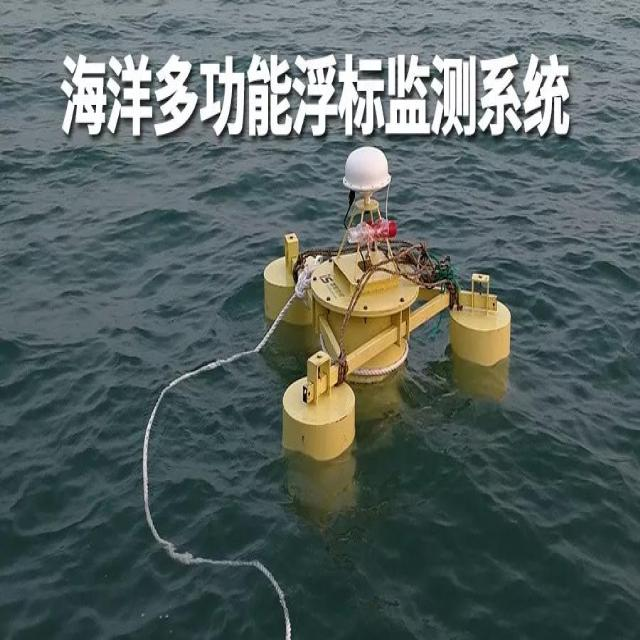buoy: (255, 141, 511, 460)
